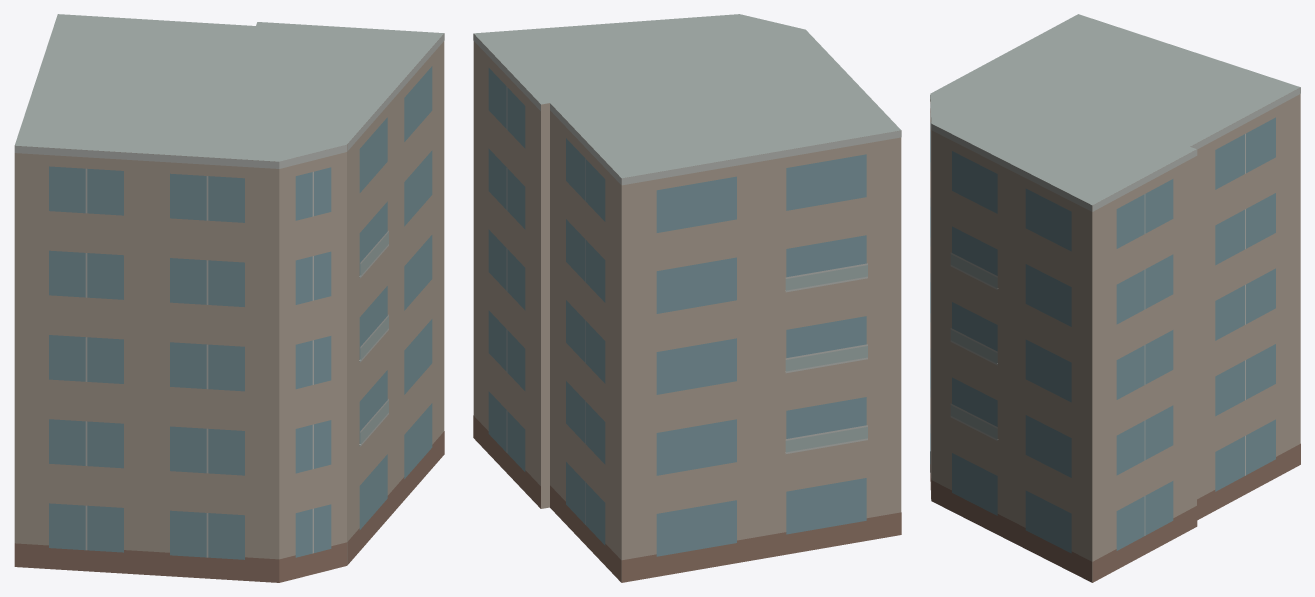
Rendered from survey-upis-33023636.glb.
The picture shows the model from 3 angles, left to right: view 1: azimuth 30°, elevation 25°; view 2: azimuth 150°, elevation 25°; view 3: azimuth 270°, elevation 25°; orthographic projection. The views are drawn at different scales.
Parts seen in each view (by area): view 1: survey-upis-33023636.tmp; view 2: survey-upis-33023636.tmp; view 3: survey-upis-33023636.tmp.
Boxes of the visible parts, x1,y1,x2,y2 form: survey-upis-33023636.tmp: [14, 14, 444, 582]; survey-upis-33023636.tmp: [473, 14, 901, 582]; survey-upis-33023636.tmp: [930, 14, 1300, 582].
Bounding box in the file's own units: 15.24 × 14 × 12.46.
